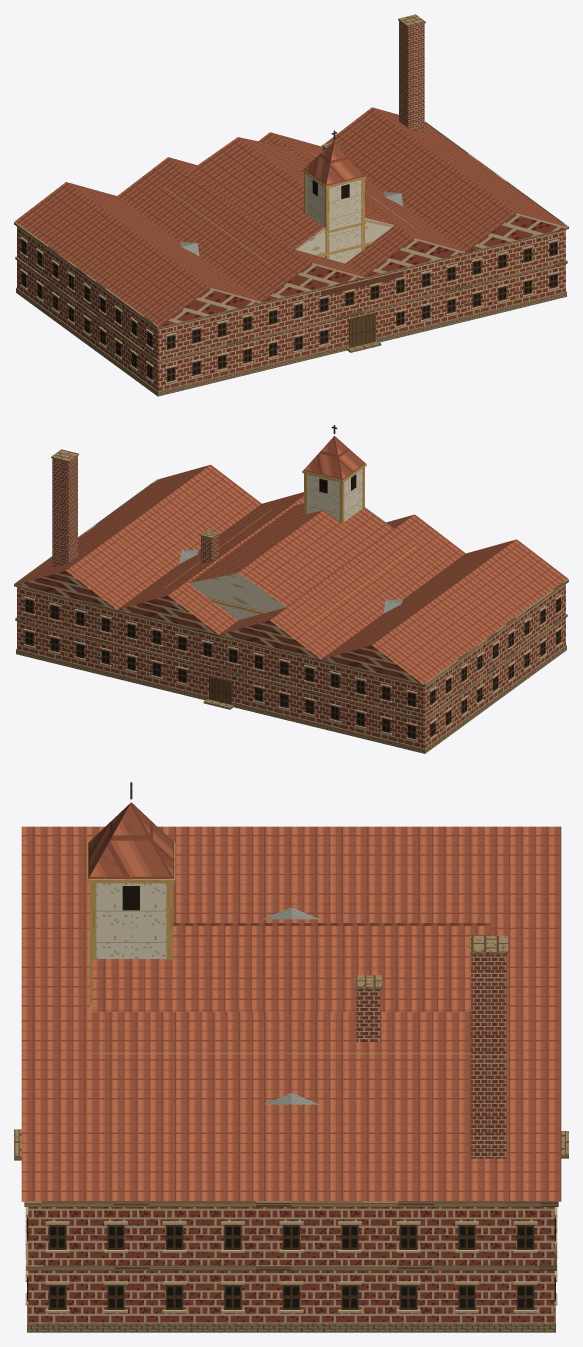
The model's file is buildings.glb.
3 renders of one model, top to bottom at view 1: azimuth 30°, elevation 25°; view 2: azimuth 150°, elevation 25°; view 3: azimuth 270°, elevation 25°, orthographic. The views are drawn at different scales.
Parts seen in each view (by area): view 1: factory, church; view 2: factory, church, engenho; view 3: factory, church, engenho, warehouse.
Boxes of the visible parts, left/top/right/bottom form: factory: left=14, top=14, right=568, bottom=396; church: left=164, top=130, right=418, bottom=266; factory: left=14, top=449, right=568, bottom=753; church: left=165, top=425, right=418, bottom=623; engenho: left=199, top=529, right=219, bottom=564; factory: left=14, top=826, right=568, bottom=1332; church: left=87, top=782, right=490, bottom=1053; engenho: left=354, top=975, right=381, bottom=1041; warehouse: left=263, top=907, right=319, bottom=1104.
Size of the model in its own units: 40.36 by 18.3 by 25.3.
Materials: 1 (1 with a texture image).
